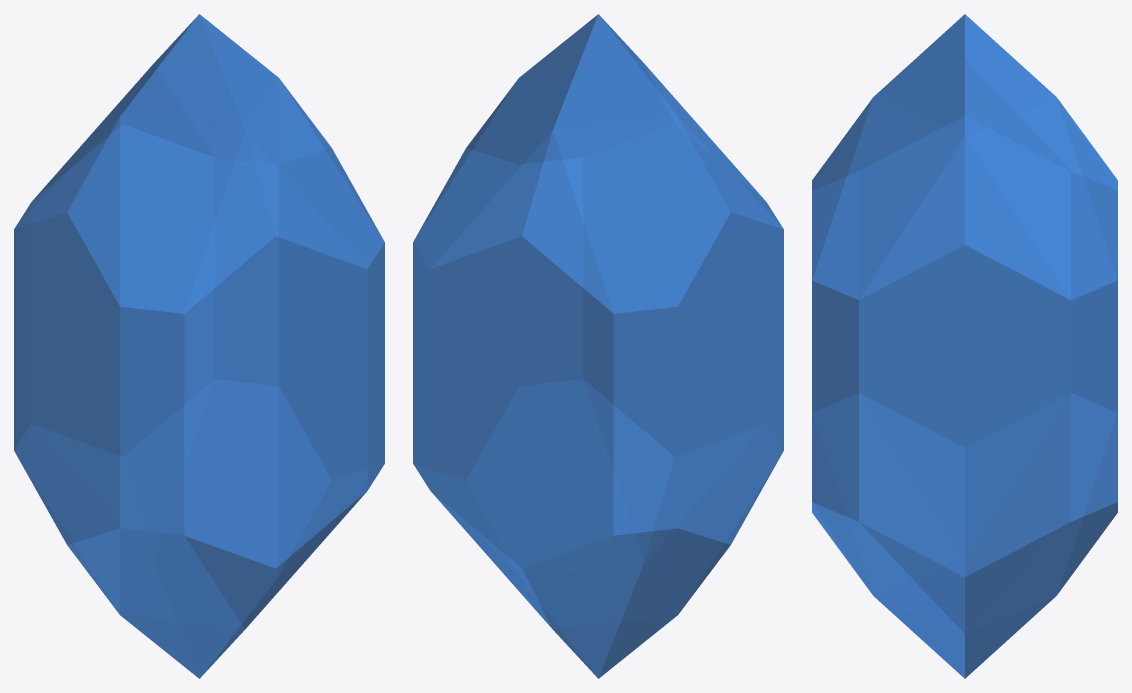
The model's file is Crystal.fbx.
3 renders of one model, left to right at view 1: azimuth 30°, elevation 25°; view 2: azimuth 150°, elevation 25°; view 3: azimuth 270°, elevation 25°, orthographic.
Visible parts, largest first — view 1: Crystal; view 2: Crystal; view 3: Crystal.
Part boxes in pixels (bbox=[...]): Crystal: bbox=[14, 14, 384, 678]; Crystal: bbox=[413, 14, 783, 678]; Crystal: bbox=[812, 14, 1117, 678].
Size of the model in its own units: 40.5 by 97.2 by 40.5.
